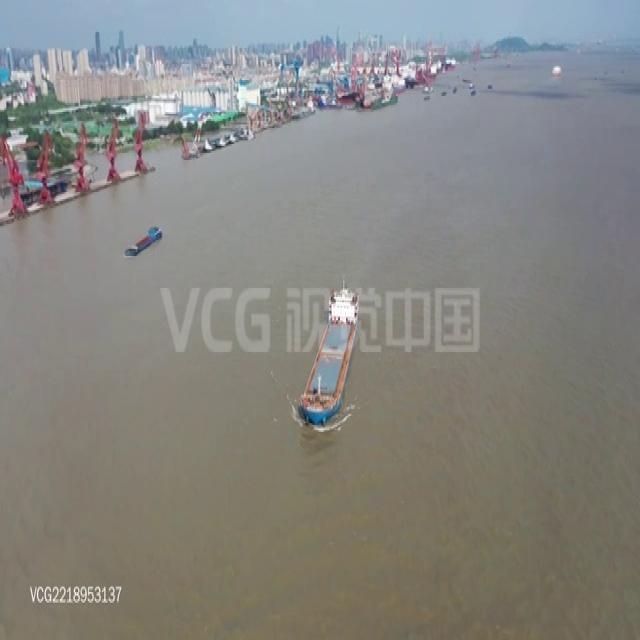cargoship: (298, 279, 359, 424), (121, 218, 163, 262)
